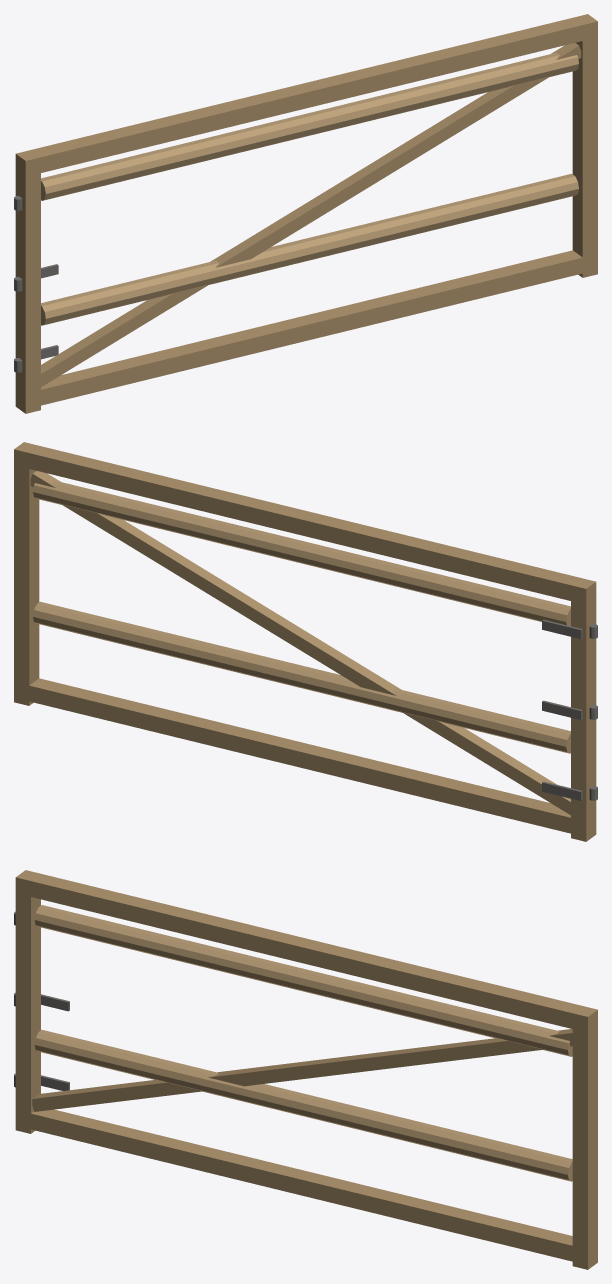
File: FenceGate.glb
The picture shows the model from 3 angles, top to bottom: view 1: azimuth 30°, elevation 25°; view 2: azimuth 150°, elevation 25°; view 3: azimuth 330°, elevation 25°; orthographic projection.
Size of the model in its own units: 2.67 by 1.12 by 0.0969.
